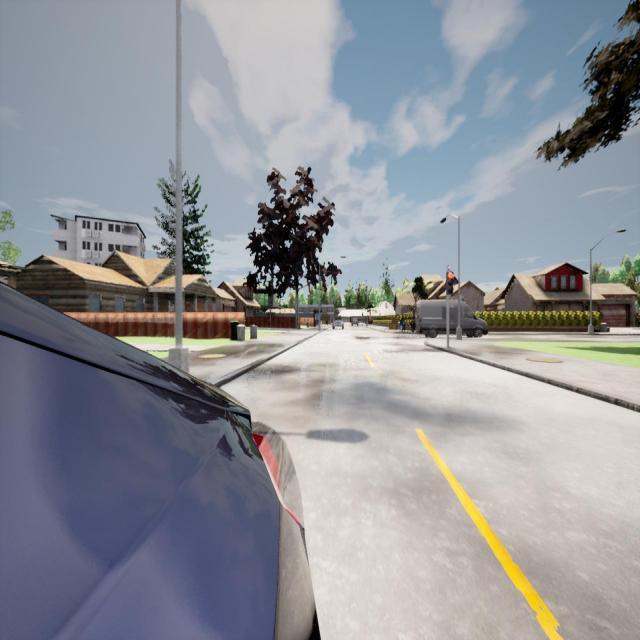Vehicle: (0, 285, 316, 638), (415, 300, 489, 338), (332, 317, 344, 329), (351, 317, 359, 327)
traffic_light: (446, 272, 454, 294)
